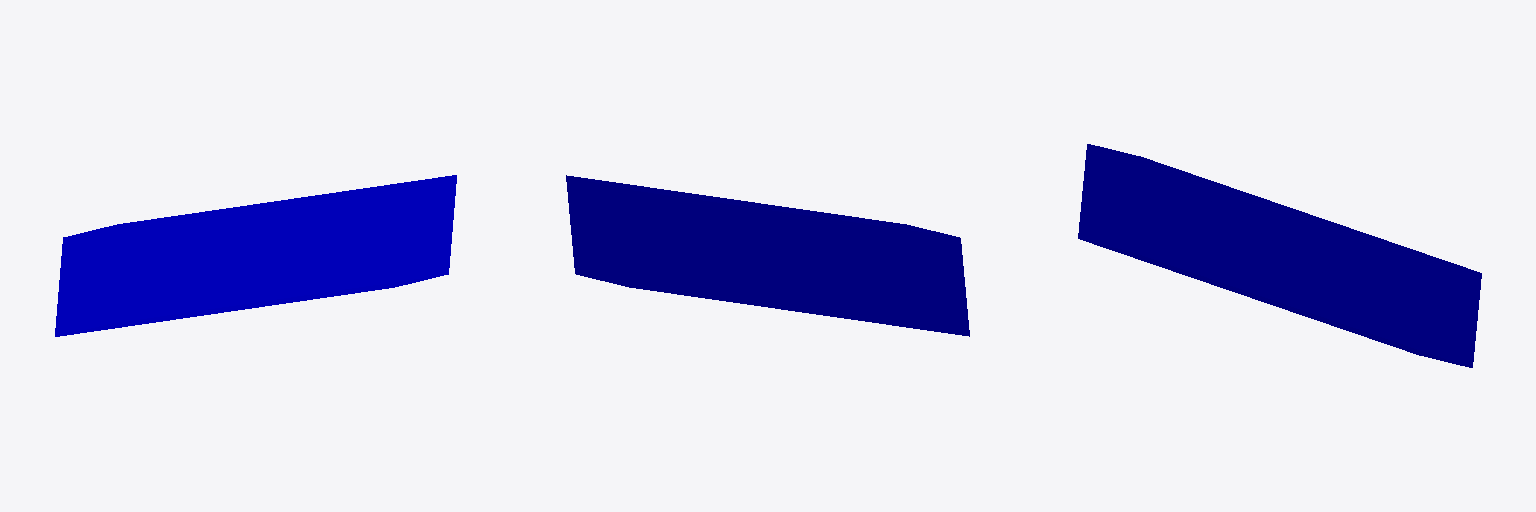
File: planes_1-dynamic - BLK2GO-3630355-Scan 080 30.obj
3 renders of one model, left to right at view 1: azimuth 30°, elevation 25°; view 2: azimuth 150°, elevation 25°; view 3: azimuth 330°, elevation 25°, orthographic.
Parts seen in each view (by area): view 1: 1-dynamic_-_BLK2GO-[number redacted]-Scan_080_30_0; view 2: 1-dynamic_-_BLK2GO-[number redacted]-Scan_080_30_0; view 3: 1-dynamic_-_BLK2GO-[number redacted]-Scan_080_30_0.
Boxes of the visible parts, x1=… form: 1-dynamic_-_BLK2GO-[number redacted]-Scan_080_30_0: x1=55, y1=175, x2=456, y2=336; 1-dynamic_-_BLK2GO-[number redacted]-Scan_080_30_0: x1=566, y1=175, x2=969, y2=336; 1-dynamic_-_BLK2GO-[number redacted]-Scan_080_30_0: x1=1078, y1=144, x2=1481, y2=367.
Bounding box in the file's own units: 7.5 × 2.32 × 0.0251.